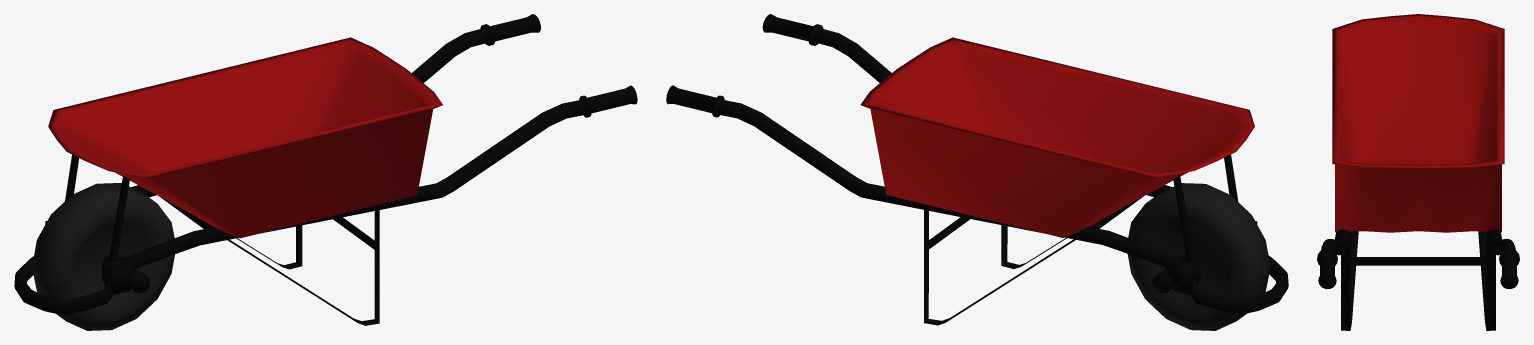
The model's file is trolly.fbx.
3 views of the same model, side by side, from view 1: azimuth 30°, elevation 25°; view 2: azimuth 150°, elevation 25°; view 3: azimuth 270°, elevation 25° (orthographic). The views are drawn at different scales.
Parts seen in each view (by area): view 1: WheelBarrow_Cube.001; view 2: WheelBarrow_Cube.001; view 3: WheelBarrow_Cube.001.
Boxes of the visible parts, x1,y1,x2,y2 form: WheelBarrow_Cube.001: (14, 14, 637, 330); WheelBarrow_Cube.001: (666, 14, 1288, 330); WheelBarrow_Cube.001: (1317, 14, 1519, 330).
Bounding box in the file's own units: 1334 × 470 × 447.
